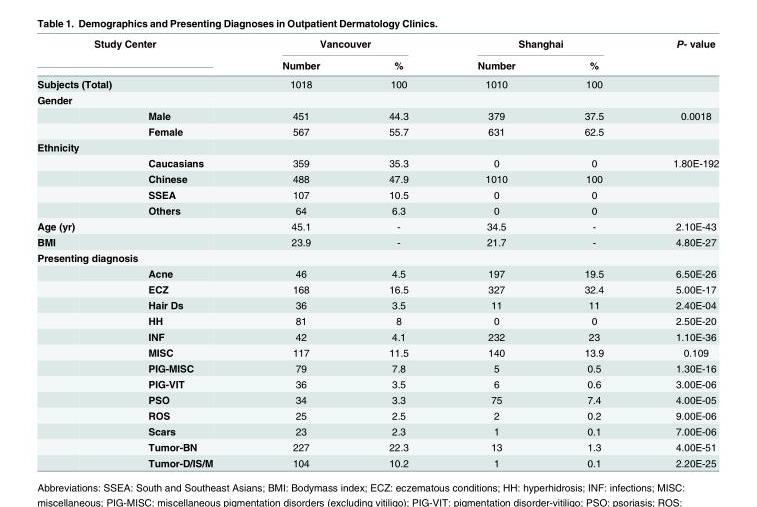table: (36, 36, 718, 468)
table column: (112, 36, 246, 468), (246, 36, 353, 468), (442, 36, 549, 468), (353, 36, 442, 468), (549, 36, 637, 468), (637, 36, 718, 468), (36, 36, 112, 468)
table column header: (36, 36, 718, 107)
table projected row header: (36, 138, 718, 154), (36, 249, 718, 265)
table row: (36, 53, 718, 74), (36, 36, 718, 53), (36, 74, 718, 91), (36, 91, 718, 107), (36, 107, 718, 123), (36, 138, 718, 154), (36, 154, 718, 170), (36, 170, 718, 186), (36, 186, 718, 202), (36, 217, 718, 233), (36, 233, 718, 249), (36, 249, 718, 265), (36, 280, 718, 296), (36, 296, 718, 312), (36, 312, 718, 328), (36, 328, 718, 344), (36, 359, 718, 375), (36, 375, 718, 391), (36, 391, 718, 407), (36, 422, 718, 438), (36, 438, 718, 454), (36, 123, 718, 138), (36, 202, 718, 217), (36, 265, 718, 280), (36, 344, 718, 359), (36, 407, 718, 422), (36, 454, 718, 468)
table spanning cell: (36, 36, 246, 91), (246, 53, 353, 107), (442, 53, 549, 107), (637, 36, 718, 107), (353, 53, 442, 107), (549, 53, 637, 107), (246, 36, 442, 53), (442, 36, 637, 53)
